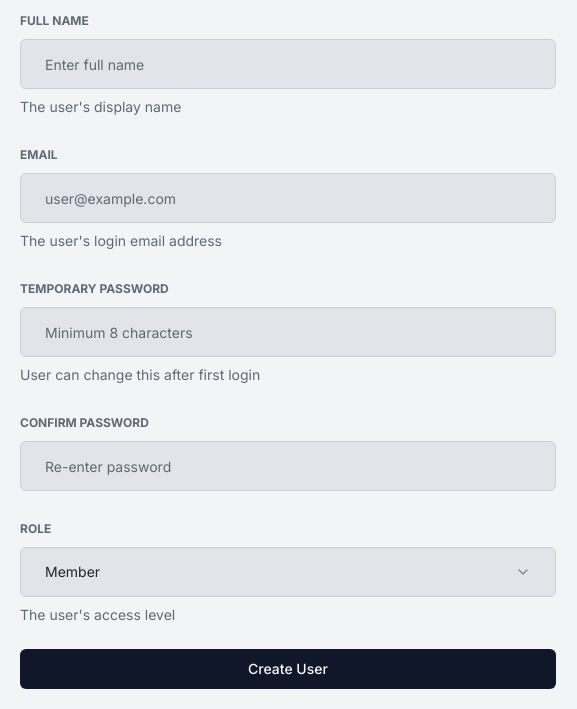
Test: AddUserForm › validates required fields
(page scrolled)
Click the button "Create User": [288, 669] box x1=20 y1=649 x2=556 y2=689
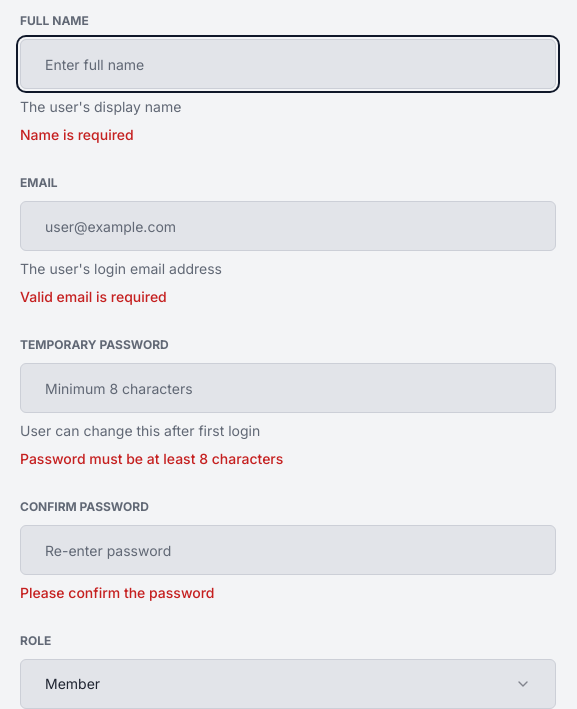
Check: the text "Name is required" is shown, box x1=20 y1=126 x2=134 y2=143
